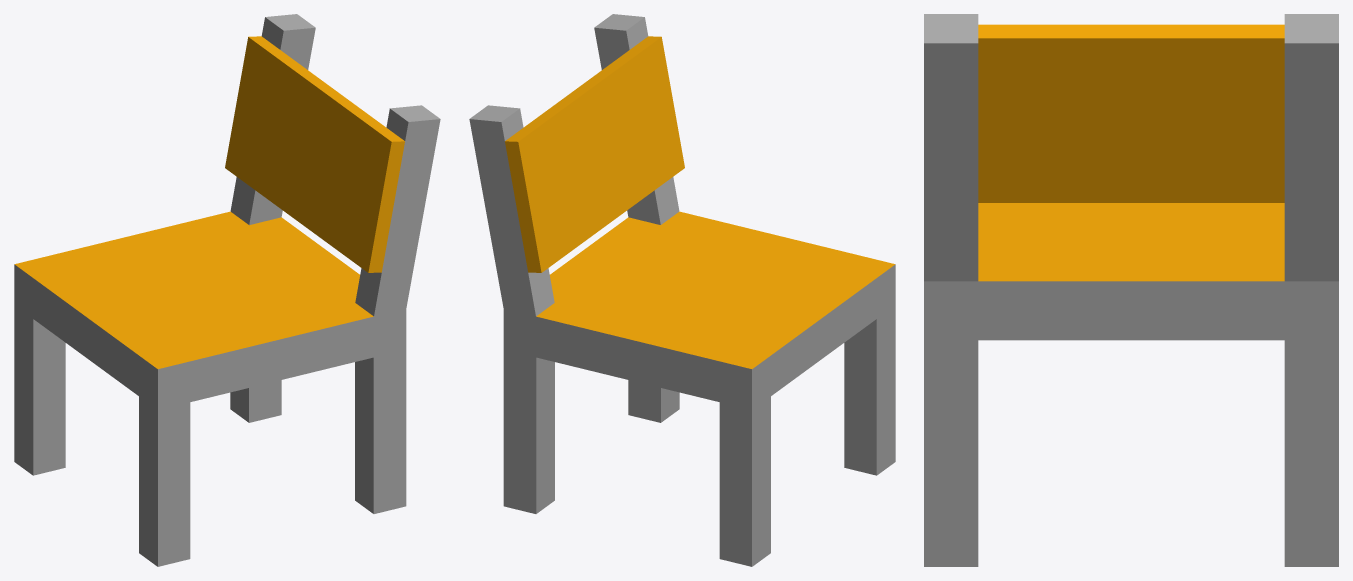
Rendered from Chair.fbx.
The picture shows the model from 3 angles, left to right: view 1: azimuth 30°, elevation 25°; view 2: azimuth 150°, elevation 25°; view 3: azimuth 270°, elevation 25°; orthographic projection. The views are drawn at different scales.
Visible parts, largest first — view 1: Chair.001; view 2: Chair.001; view 3: Chair.001.
Part boxes in pixels (bbox=[...]): Chair.001: bbox=[14, 14, 440, 566]; Chair.001: bbox=[469, 14, 895, 566]; Chair.001: bbox=[924, 14, 1338, 566].
Size of the model in its own units: 0.6959 by 0.9023 by 0.6116.
